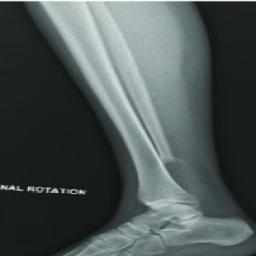cancer: (152, 158, 204, 215)
